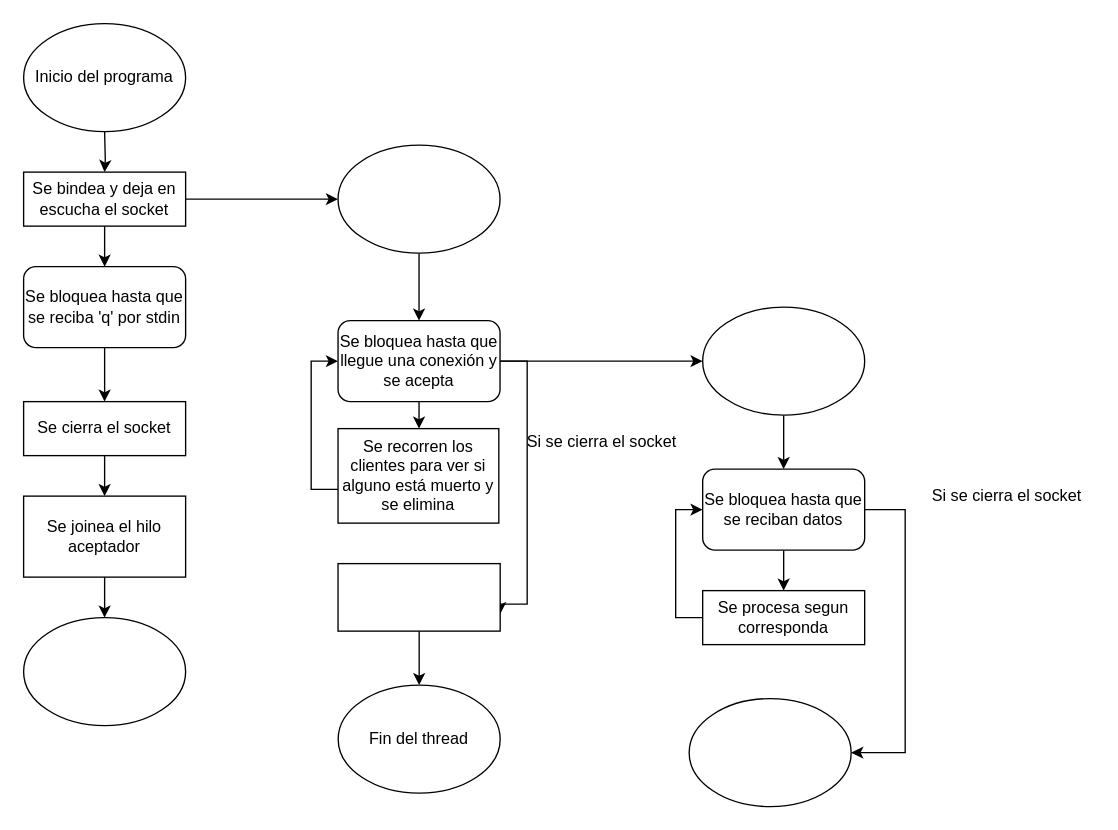
This 1118x830 diagram has some shape labels left out. Each missing label, with the box of its shape:
Fin del programa: (22, 616, 186, 726)
Fin del thread cliente: (688, 697, 851, 807)
Inicio de thread de cliente: (701, 306, 865, 415)
Inicio del thread aceptador: (337, 144, 500, 253)
Se recorren los clientes, se detienen y se joinean: (337, 562, 500, 631)
